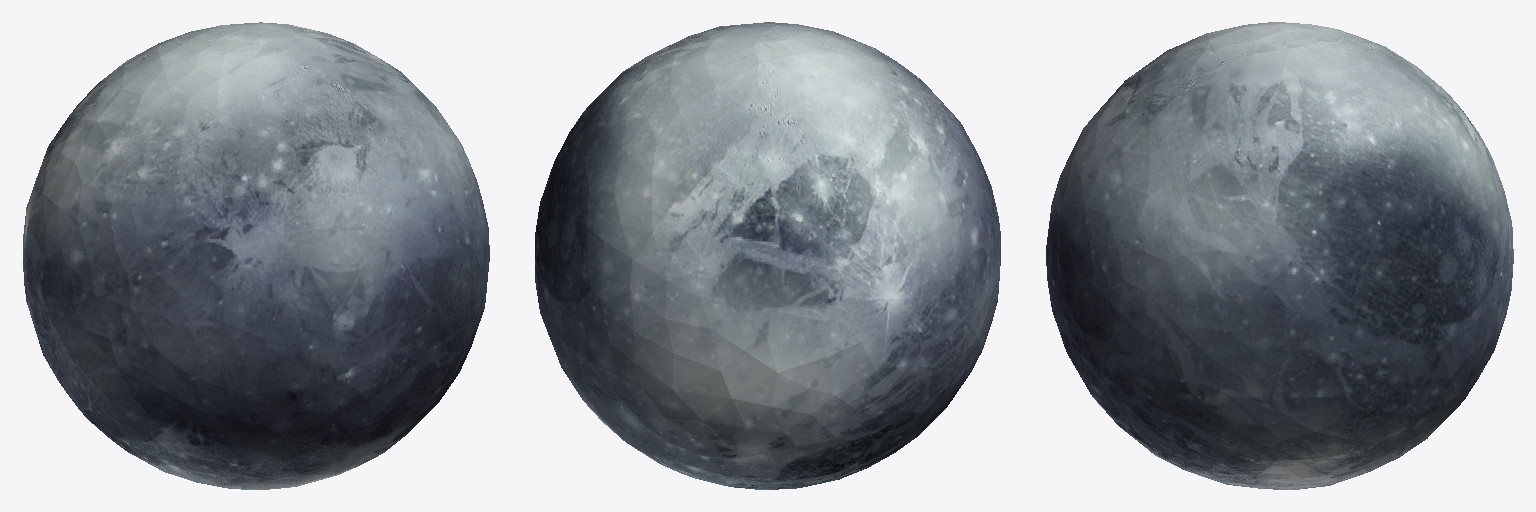
3 renders of one model, left to right at view 1: azimuth 30°, elevation 25°; view 2: azimuth 150°, elevation 25°; view 3: azimuth 270°, elevation 25°, orthographic.
Parts seen in each view (by area): view 1: Pluto_Globe.006; view 2: Pluto_Globe.006; view 3: Pluto_Globe.006.
Part boxes in pixels (x1,y1,x2,y2): Pluto_Globe.006: (23,22,489,489); Pluto_Globe.006: (535,22,1000,489); Pluto_Globe.006: (1046,22,1513,489).
Bounding box in the file's own units: 4.61 × 4.61 × 4.61.
Materials: 1 (1 with a texture image).